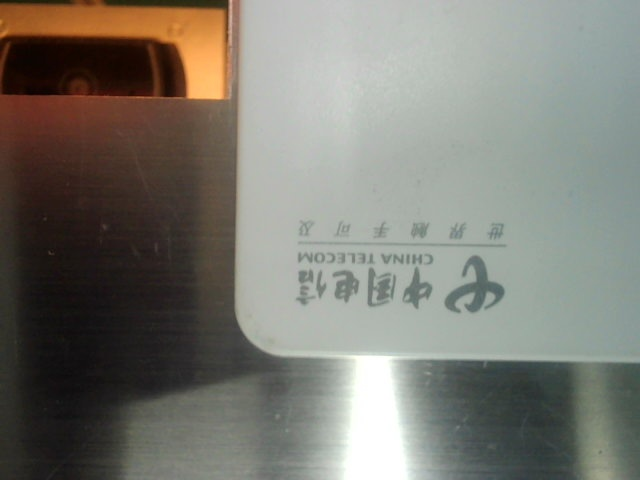AB_ChinaTelecom: (295, 212, 516, 314)
